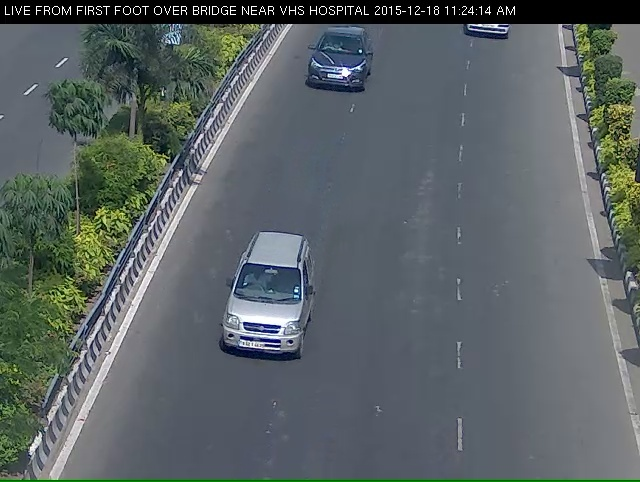Car: (205, 243, 315, 398), (297, 25, 373, 104)
